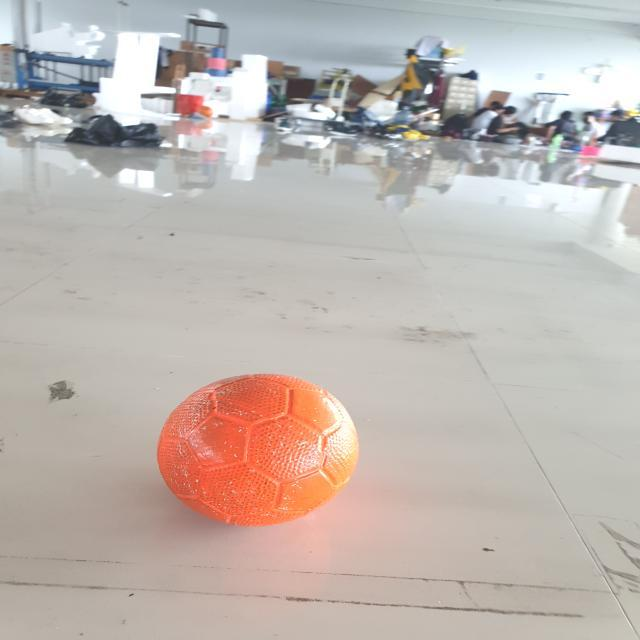bola: (152, 368, 366, 534)
